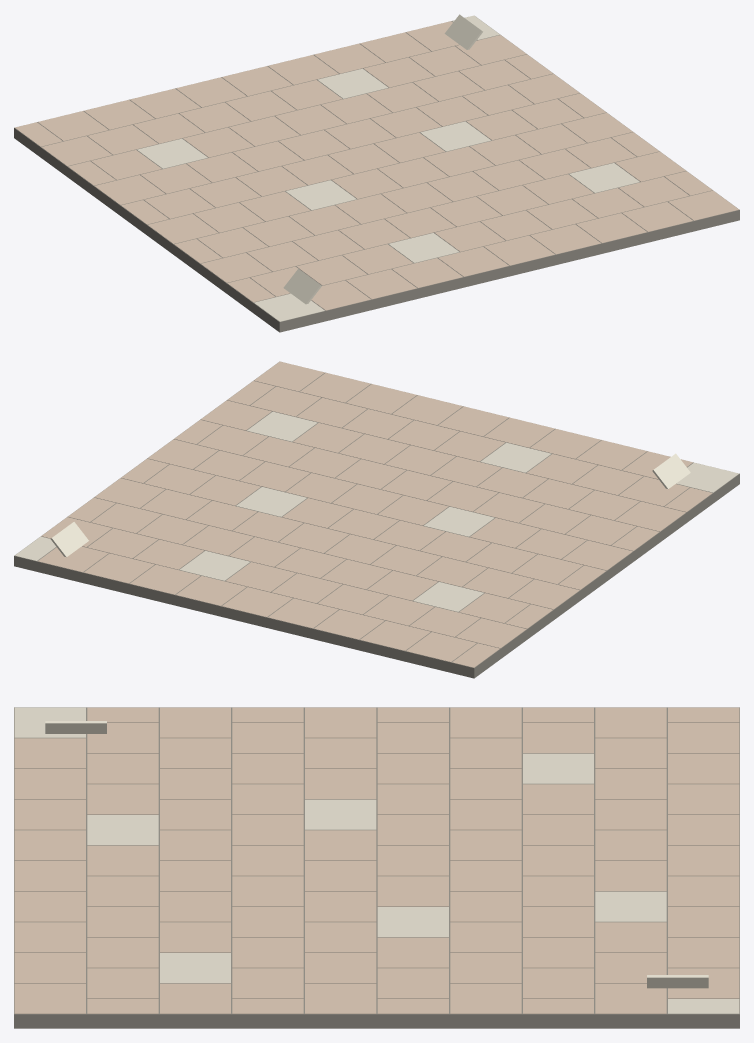
Rendered from CornerPaving.glb.
3 views of the same model, one above another, from view 1: azimuth 30°, elevation 25°; view 2: azimuth 150°, elevation 25°; view 3: azimuth 270°, elevation 25° (orthographic). The views are drawn at different scales.
Parts seen in each view (by area): view 1: CornerPaving; view 2: CornerPaving; view 3: CornerPaving.
Part boxes in pixels (x1=…): CornerPaving: x1=14, y1=14, x2=739, y2=332; CornerPaving: x1=14, y1=361, x2=739, y2=678; CornerPaving: x1=14, y1=707, x2=739, y2=1028.
Bounding box in the file's own units: 12.5 × 0.7835 × 12.5.
